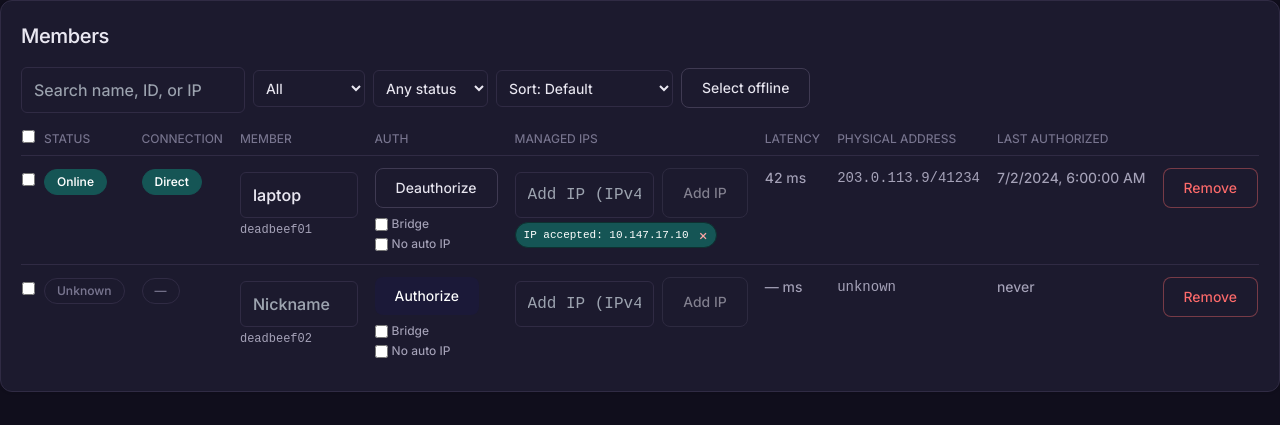
Test: MemberTable › rejects a malformed managed IP with an inline error and no PATCH
Type "not-an-ip" into the field named "Add IP assignment for deadbeef01".
click(584, 195); type("not-an-ip")  # box [514, 172, 654, 218]
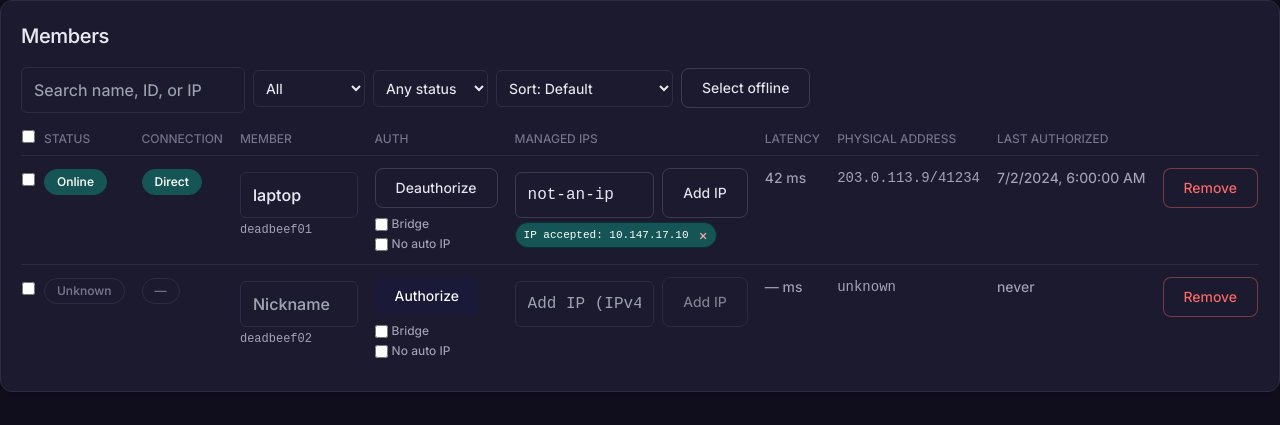
Click the button "Add IP" in the row of "Online".
click(705, 193)  # box [662, 168, 748, 218]
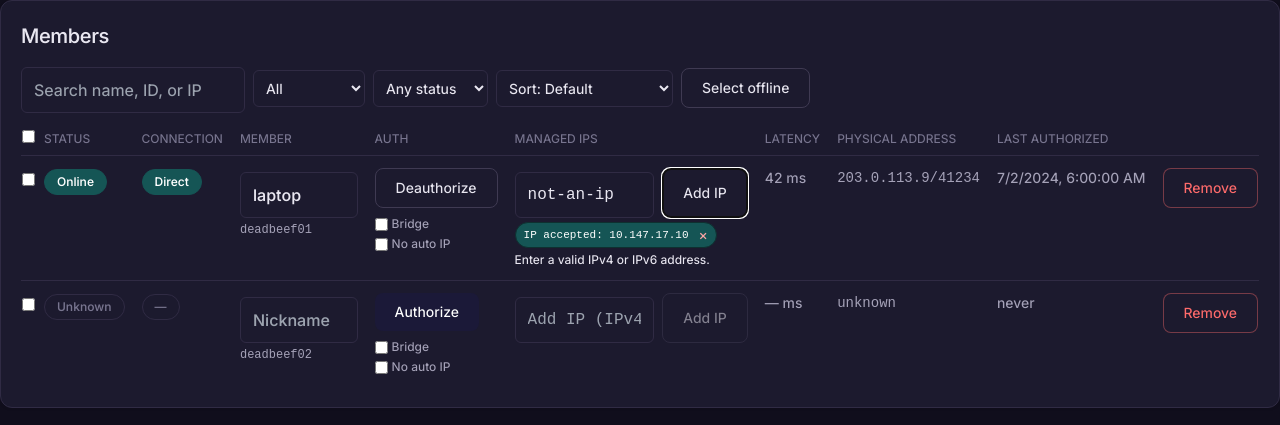
Now the text "Enter a valid IPv4 or IPv6 address." is shown, box [514, 252, 710, 267]
